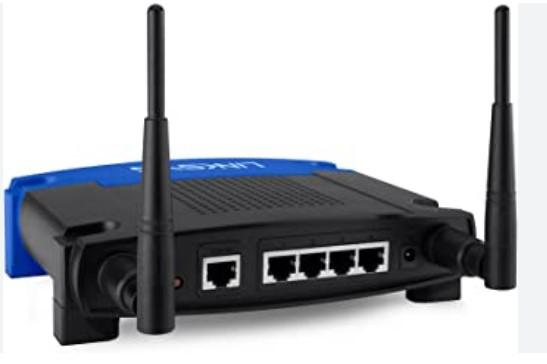Router: (4, 5, 517, 346)
